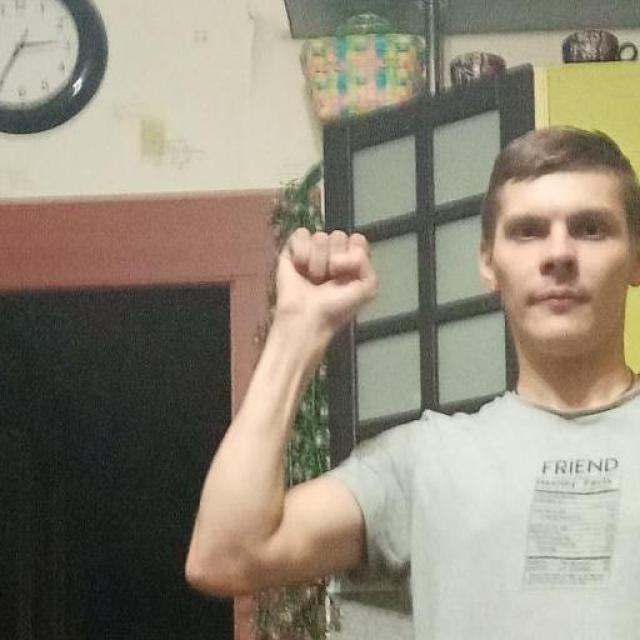hand: (270, 225, 379, 349)
